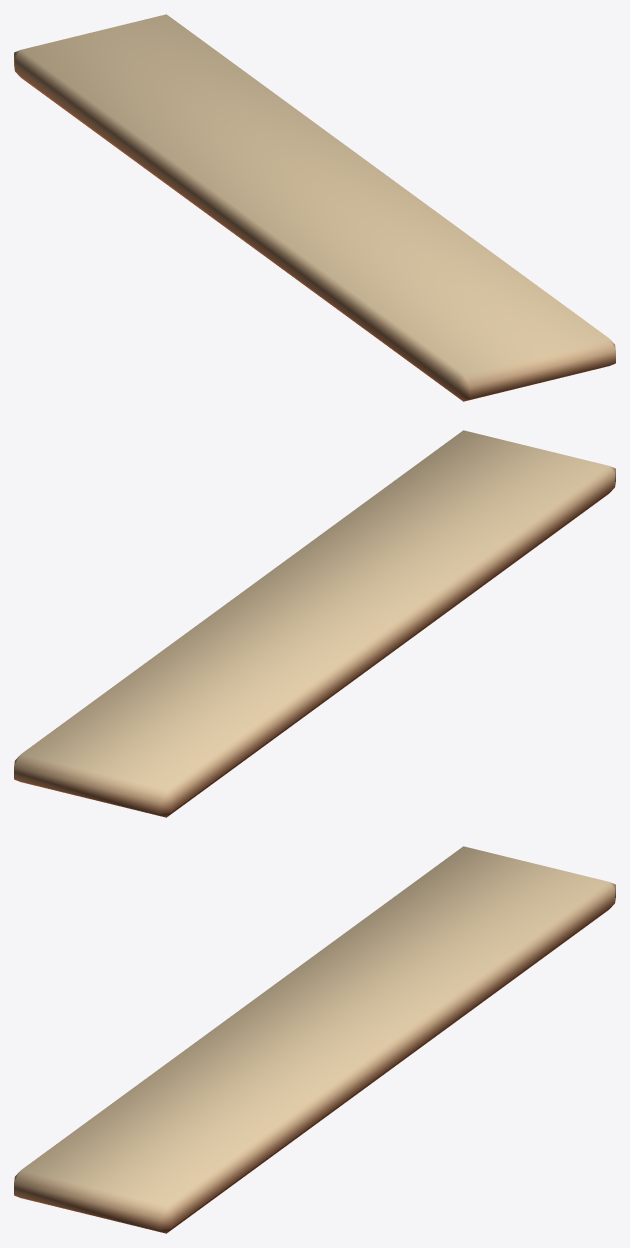
File: Plank.glb
The picture shows the model from 3 angles, top to bottom: view 1: azimuth 30°, elevation 25°; view 2: azimuth 150°, elevation 25°; view 3: azimuth 330°, elevation 25°; orthographic projection.
Parts seen in each view (by area): view 1: Plank; view 2: Plank; view 3: Plank.
Part boxes in pixels (x1,y1,x2,y2): Plank: (14,14,615,401); Plank: (14,430,615,817); Plank: (14,846,615,1233).
Size of the model in its own units: 0.3986 by 0.0675 by 2.
1 material, 1 textured.
